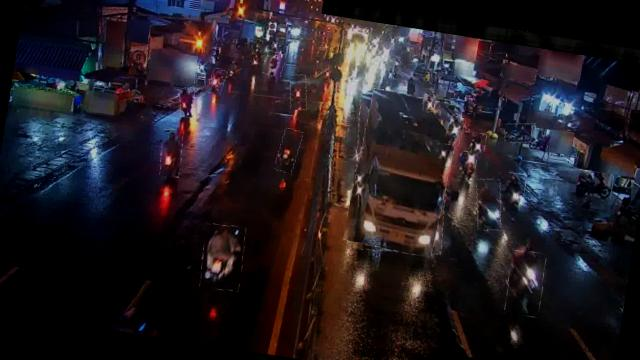Bike: (197, 222, 248, 293), (503, 249, 548, 318), (470, 176, 506, 232), (571, 169, 614, 204), (157, 127, 185, 178), (274, 127, 302, 174), (502, 172, 526, 213), (503, 120, 537, 146), (287, 73, 310, 110), (177, 86, 198, 118), (262, 50, 286, 77), (446, 114, 466, 146), (458, 150, 478, 180), (208, 66, 227, 94), (470, 132, 487, 155), (421, 93, 436, 113)
Bus: (341, 88, 462, 259)
Truck: (344, 88, 461, 258)
